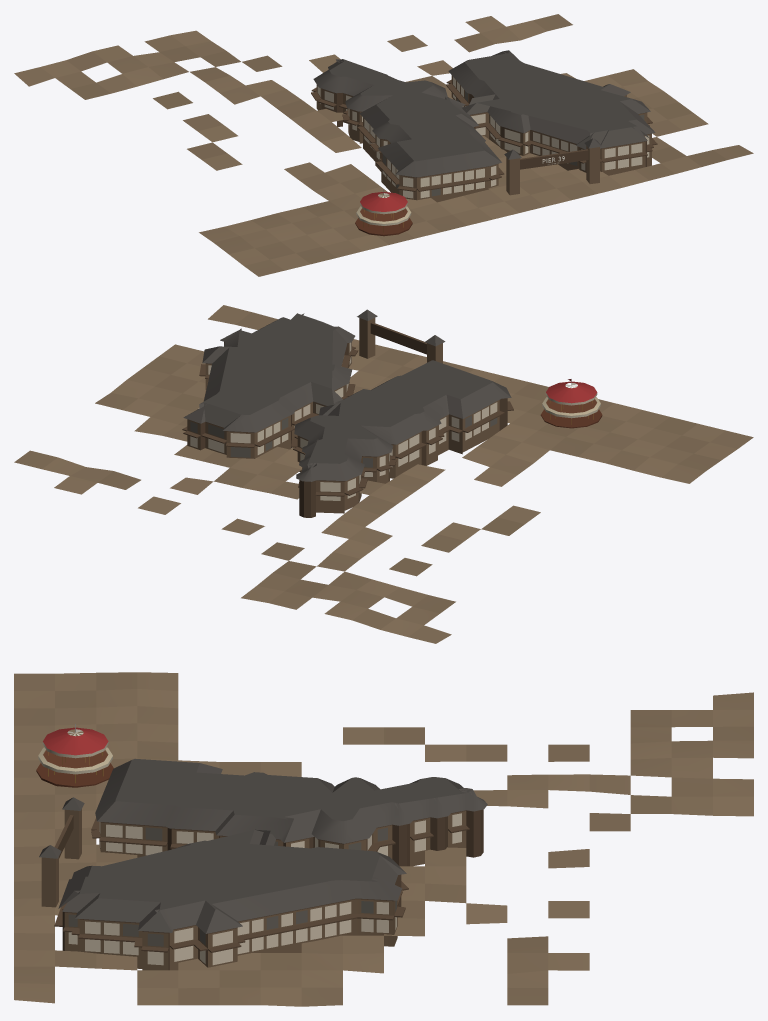
Rendered from pier39_lod1.glb.
3 renders of one model, top to bottom at view 1: azimuth 30°, elevation 25°; view 2: azimuth 150°, elevation 25°; view 3: azimuth 270°, elevation 25°, orthographic. The views are drawn at different scales.
Visible parts, largest first — view 1: L1_wood, L1_roof, L1_shop, L1_paint; view 2: L1_wood, L1_roof, L1_shop, L1_paint; view 3: L1_wood, L1_roof, L1_shop, L1_paint.
Part boxes in pixels (box(x1,y1,x2,y2)): L1_wood: box(14, 14, 753, 276); L1_roof: box(313, 50, 655, 177); L1_shop: box(317, 77, 649, 198); L1_paint: box(356, 192, 411, 225); L1_wood: box(14, 305, 753, 643); L1_roof: box(183, 309, 511, 481); L1_shop: box(190, 342, 497, 500); L1_paint: box(542, 381, 600, 418); L1_wood: box(14, 672, 753, 1006); L1_roof: box(39, 758, 487, 933); L1_shop: box(68, 813, 461, 965); L1_paint: box(38, 727, 112, 774).
Size of the model in its own units: 171 by 17.84 by 162.
